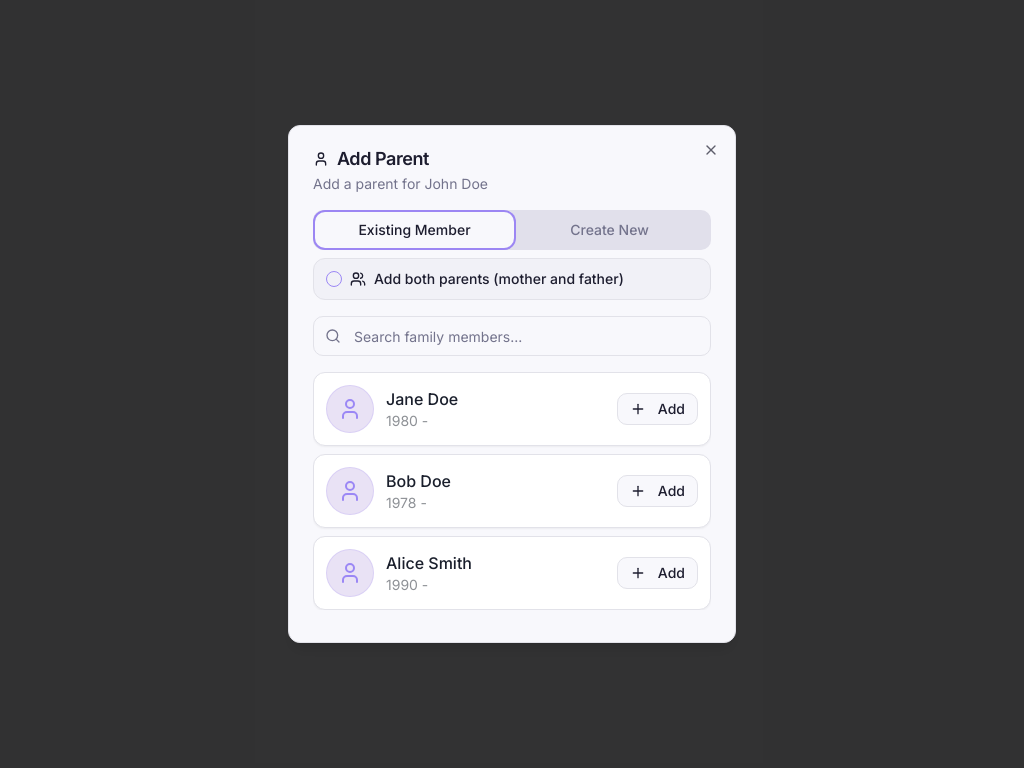
Test: AddRelationshipDialog › Adding Both Parents - Existing Members › should show both parent selection fields when checkbox is checked
This screenshot has width=1024, height=768.
Expected: the text "Jane Doe" is shown, [386,389,458,409]
// Check the "Add both parents" checkbox
Click the checkbox named "Add both parents" at coordinates (334, 279), box [326,271,342,287]
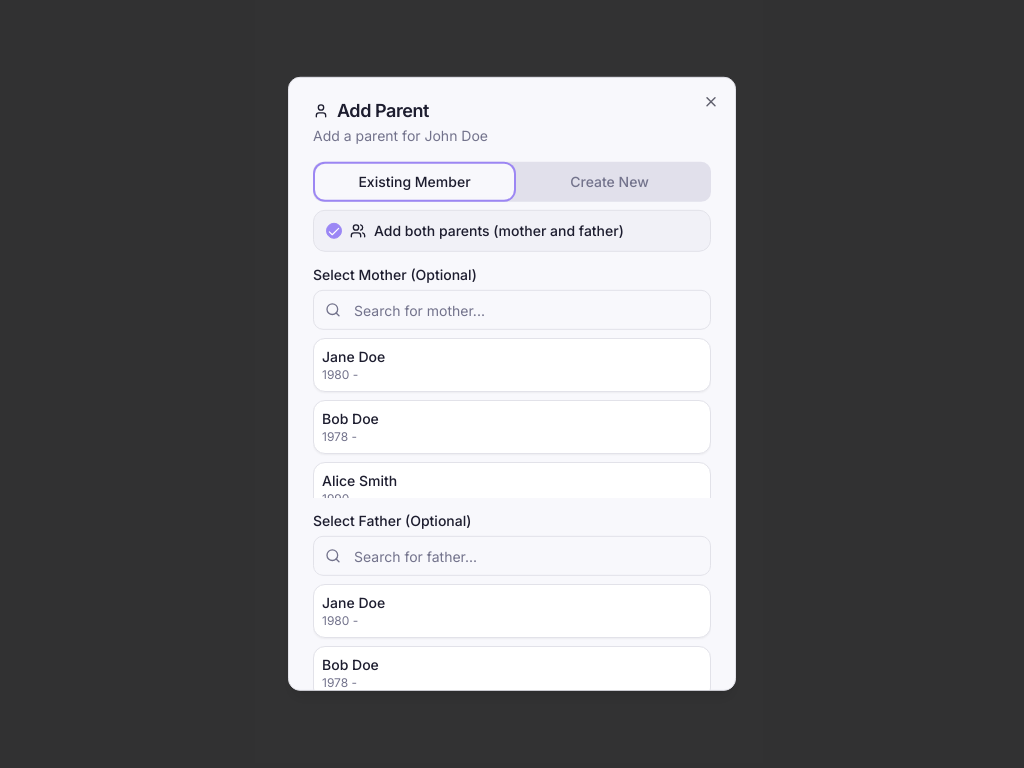
Expected: the text "Select Mother (Optional)" is shown, [313,266,477,283]
Expected: the text "Select Father (Optional)" is shown, [313,512,472,529]
Expected: the field with placeholder "Search for mother..." is shown, [313,290,711,330]
